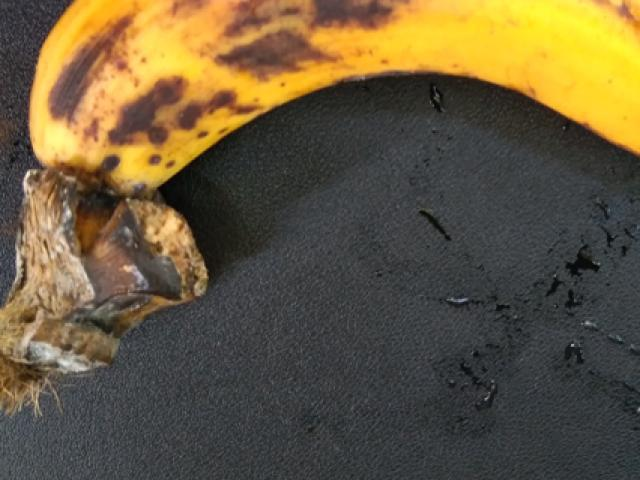overripe: (26, 0, 639, 183)
